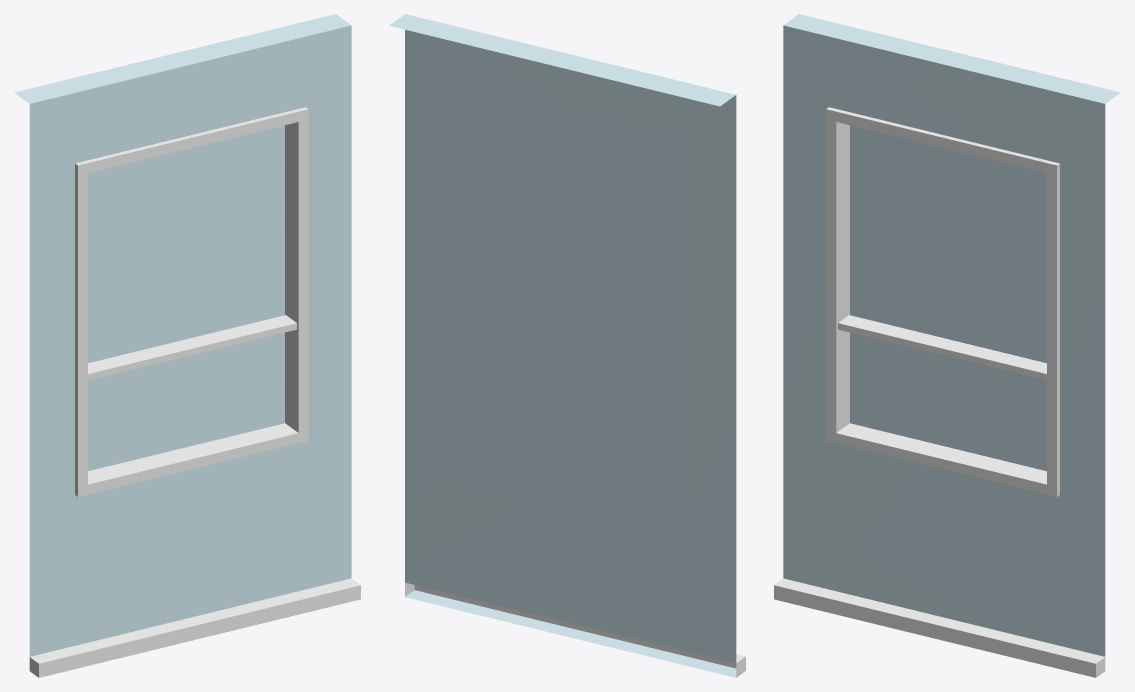
Rendered from 23_wall(window).FBX.
3 renders of one model, left to right at view 1: azimuth 30°, elevation 25°; view 2: azimuth 150°, elevation 25°; view 3: azimuth 330°, elevation 25°, orthographic. The views are drawn at different scales.
Visible parts, largest first — view 1: 23_wall(window), 23_wall(light); view 2: 23_wall(light), 23_wall(window); view 3: 23_wall(window), 23_wall(light).
Part boxes in pixels (x1,y1,x2,y2): 23_wall(window): (14,14,360,677); 23_wall(light): (88,125,284,471); 23_wall(light): (418,71,694,544); 23_wall(window): (389,14,745,677); 23_wall(window): (774,14,1120,677); 23_wall(light): (850,125,1046,471).
Bounding box in the file's own units: 256 × 432 × 34.48.
